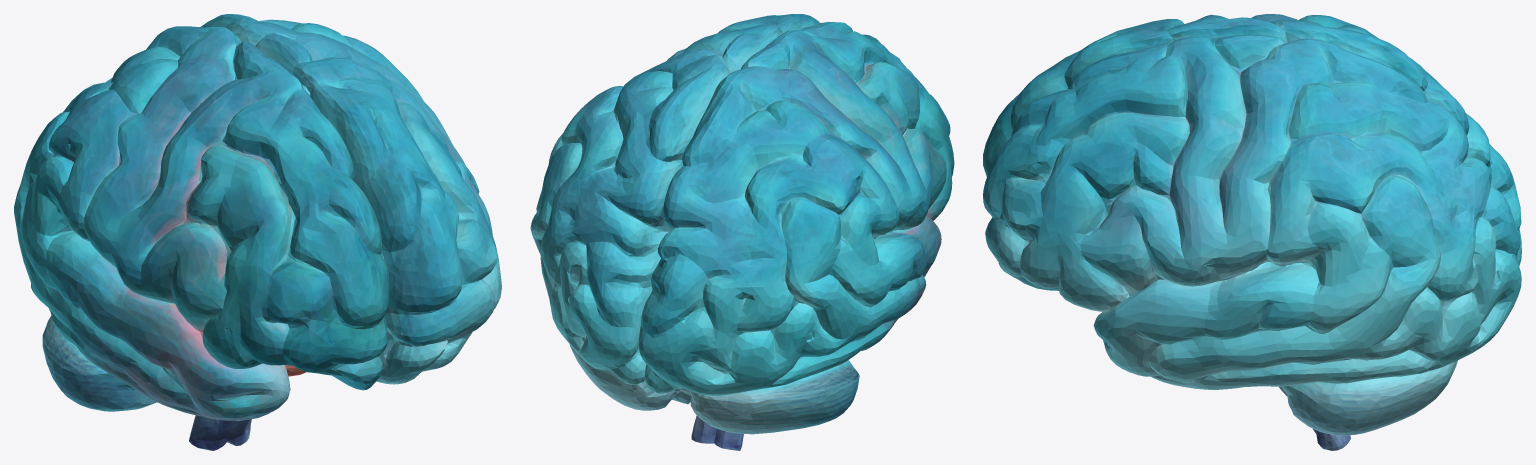
File: ACV2.glb
The picture shows the model from 3 angles, left to right: view 1: azimuth 30°, elevation 25°; view 2: azimuth 150°, elevation 25°; view 3: azimuth 270°, elevation 25°; orthographic projection. The views are drawn at different scales.
Parts seen in each view (by area): view 1: world; view 2: world; view 3: world.
Part boxes in pixels (x1,y1,x2,y2): world: [14, 14, 501, 450]; world: [530, 14, 954, 450]; world: [983, 14, 1521, 450].
Bounding box in the file's own units: 0.8058 × 0.8516 × 0.9979.
Materials: 1 (1 with a texture image).
